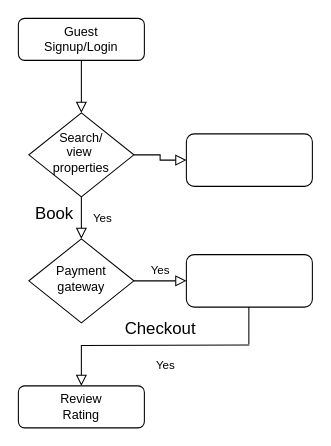
The diagram is 331 pixels wide and 446 high, and some of its shapes have lost their labels. Here are the shapes that lost their labels. From the top down, the box of each, then its label:
(185, 133, 312, 186): Rooms did not meet guest needs
(185, 254, 312, 307): payment confirmation notification
